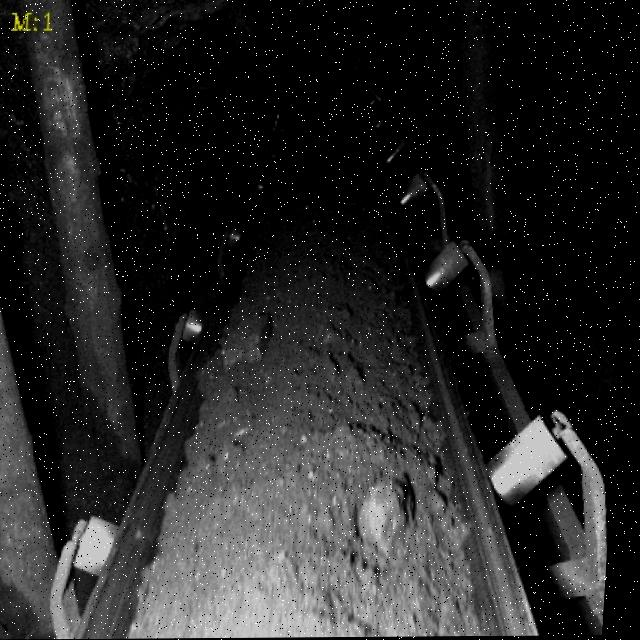large_sized_coal: (366, 475, 424, 555), (225, 313, 274, 369)
